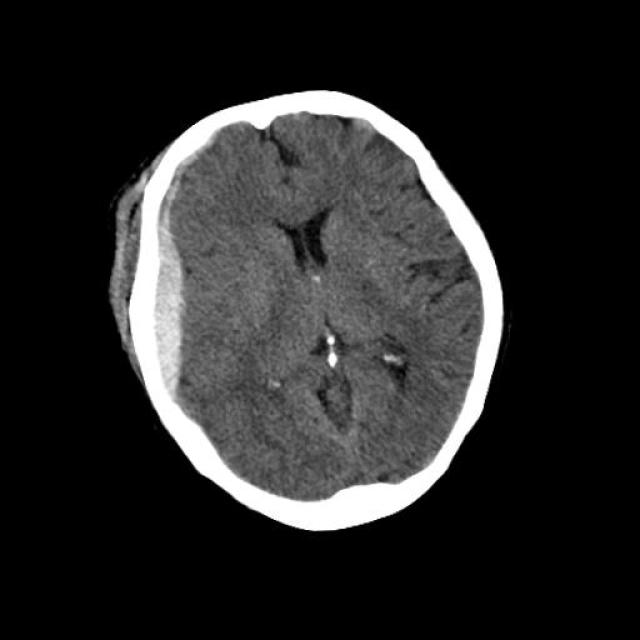Subdural: (102, 120, 234, 404)
